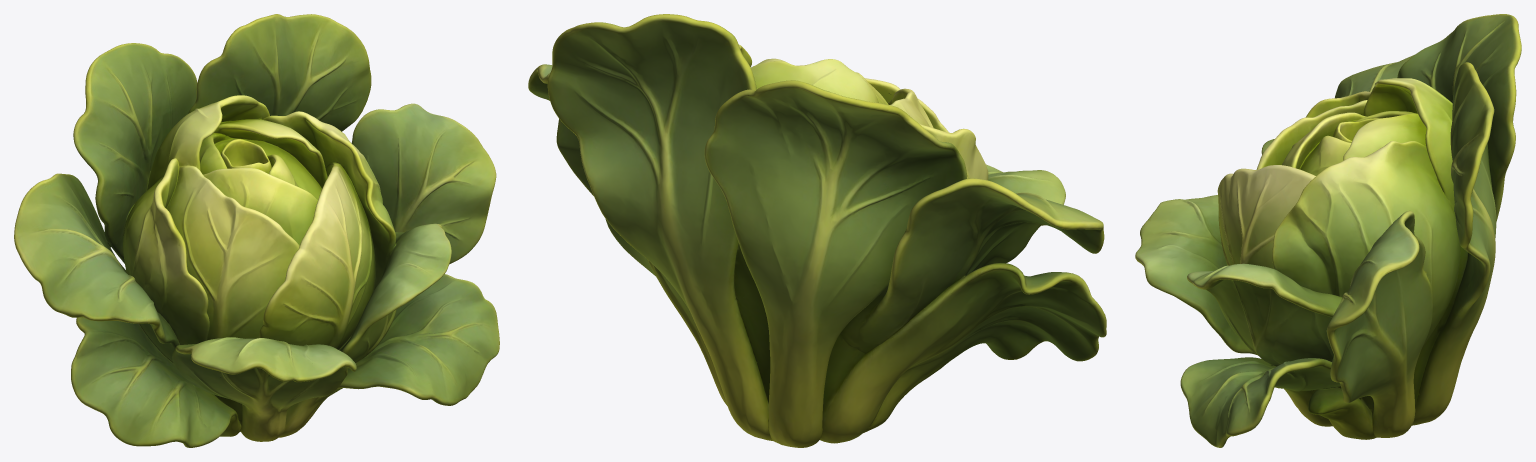
Rendered from cabbage-plant.glb.
3 renders of one model, left to right at view 1: azimuth 30°, elevation 25°; view 2: azimuth 150°, elevation 25°; view 3: azimuth 270°, elevation 25°, orthographic. The views are drawn at different scales.
Parts seen in each view (by area): view 1: tripo_node_606660b1-0b9b-464d-8470-c5150415798f; view 2: tripo_node_606660b1-0b9b-464d-8470-c5150415798f; view 3: tripo_node_606660b1-0b9b-464d-8470-c5150415798f.
Part boxes in pixels (x1,y1,x2,y2): tripo_node_606660b1-0b9b-464d-8470-c5150415798f: (14,14,499,447); tripo_node_606660b1-0b9b-464d-8470-c5150415798f: (528,14,1106,447); tripo_node_606660b1-0b9b-464d-8470-c5150415798f: (1135,14,1521,447).
Bounding box in the file's own units: 1 × 0.7347 × 0.682.
Materials: 1 (1 with a texture image).
